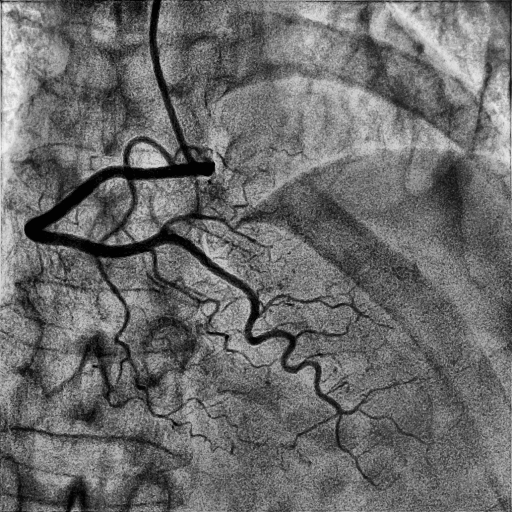pborca: (161, 214, 272, 248)
pda: (165, 233, 359, 415)
rca: (25, 162, 214, 258)
